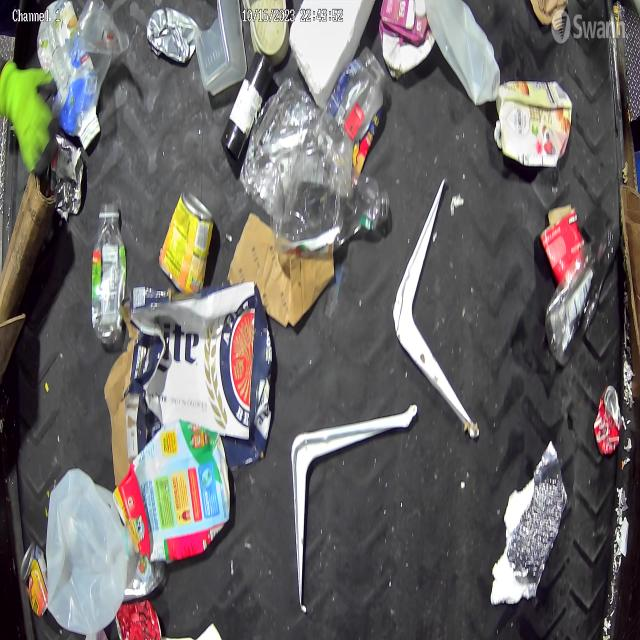can: (162, 192, 214, 293), (146, 6, 200, 64), (50, 133, 84, 214), (21, 540, 48, 617), (115, 598, 163, 640), (593, 386, 621, 457)
milk_jug: (45, 464, 129, 633), (425, 1, 503, 105)
non_white_jug: (114, 420, 231, 562), (494, 80, 573, 168), (379, 1, 434, 79)
plastic_bottle: (545, 221, 617, 369), (271, 164, 390, 251), (92, 204, 130, 349)
